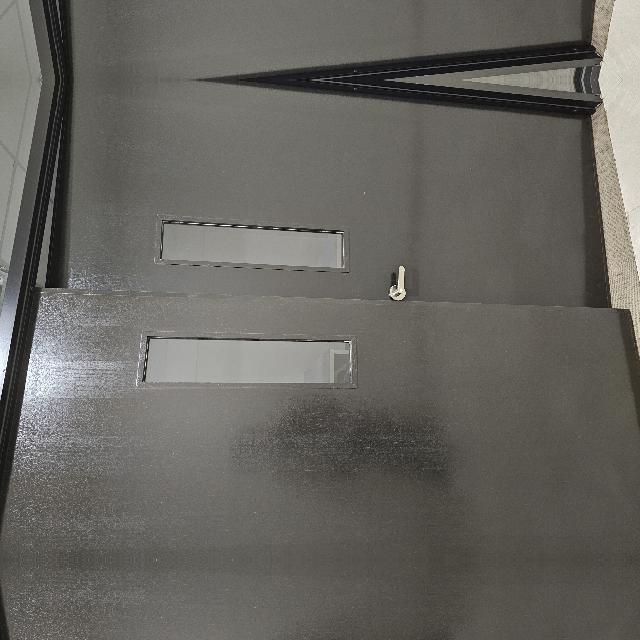door: (2, 80, 480, 640), (2, 400, 480, 640), (2, 0, 480, 80)
